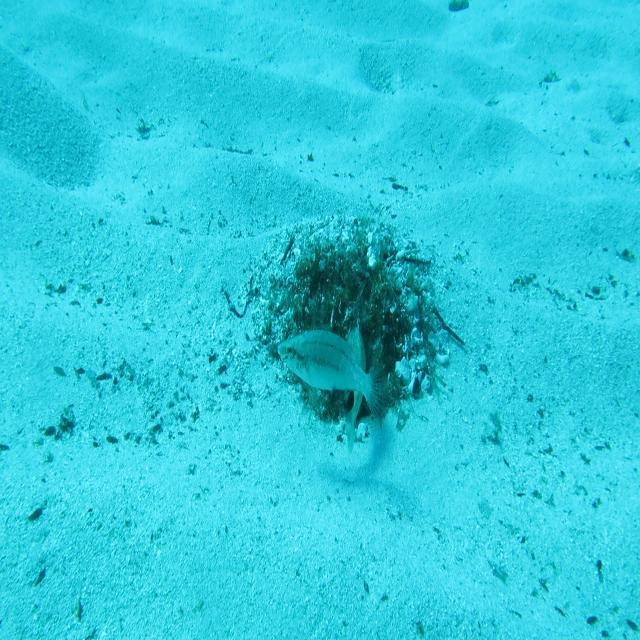FAN: (339, 315, 368, 456)
core_nest: (321, 265, 361, 299)
female: (273, 325, 392, 428)
nest: (245, 210, 459, 463)
vegetation: (449, 0, 469, 15)
